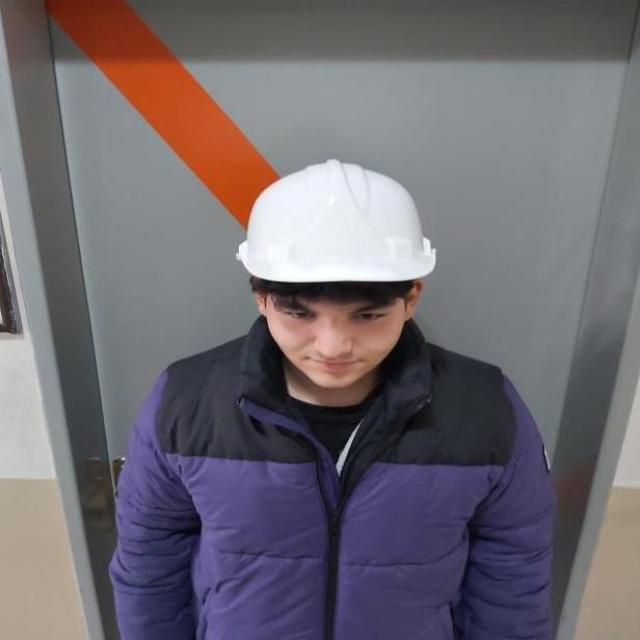white helmet: (234, 159, 446, 295)
